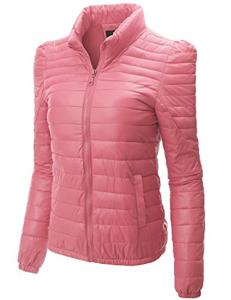C_jacket: (12, 1, 216, 300)
